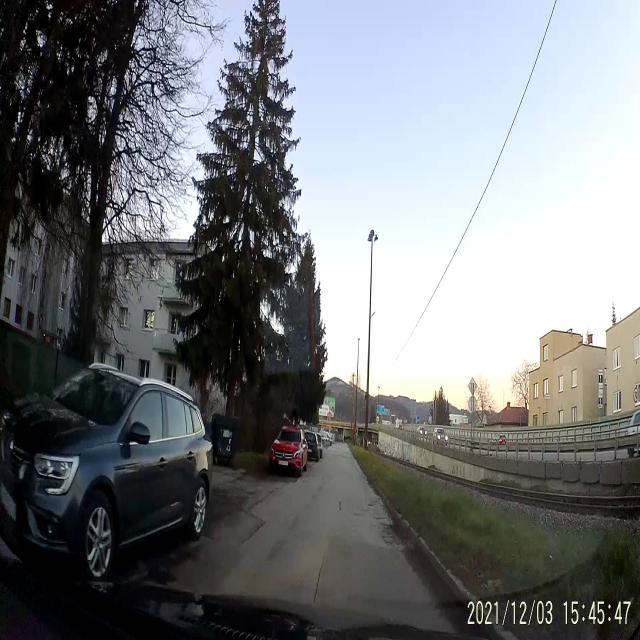Pothole: (376, 520, 406, 548)
